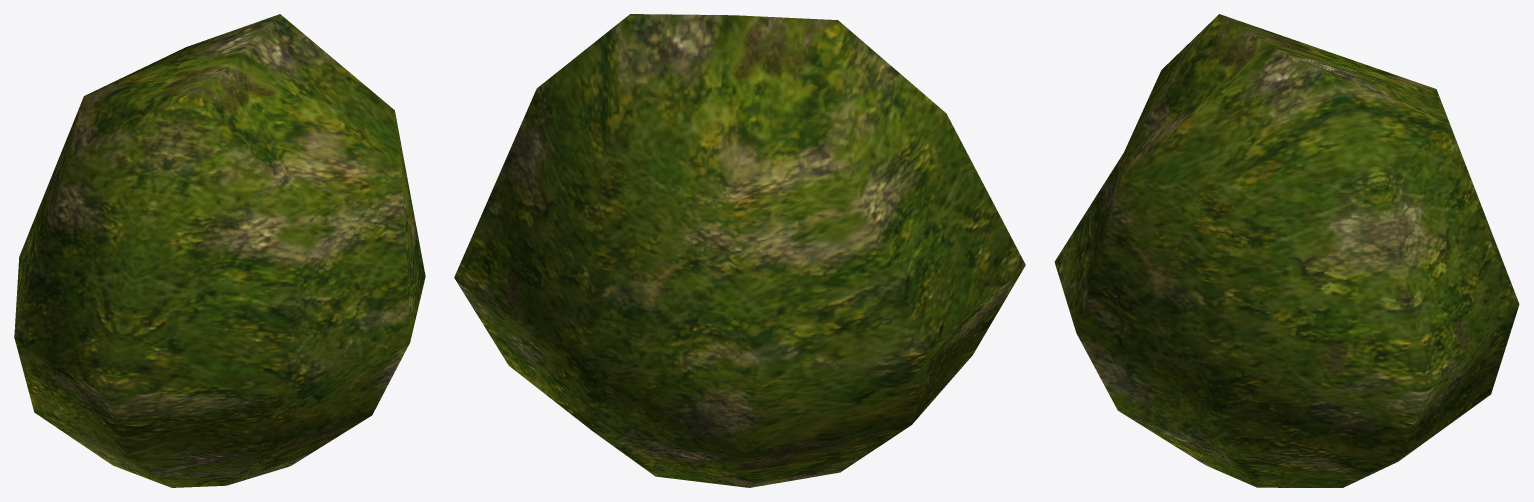
The model's file is OVERHILL_A_01_ROCK102.fbx.
3 views of the same model, side by side, from view 1: azimuth 30°, elevation 25°; view 2: azimuth 150°, elevation 25°; view 3: azimuth 270°, elevation 25° (orthographic). The views are drawn at different scales.
Parts seen in each view (by area): view 1: OVERHILL_A_01_ROCK102; view 2: OVERHILL_A_01_ROCK102; view 3: OVERHILL_A_01_ROCK102.
Part boxes in pixels (<box>): OVERHILL_A_01_ROCK102: <box>14,14,425,487</box>; OVERHILL_A_01_ROCK102: <box>454,14,1025,487</box>; OVERHILL_A_01_ROCK102: <box>1054,14,1519,487</box>.
Size of the model in its own units: 18148 by 17616 by 17906.
1 material, 1 textured.
